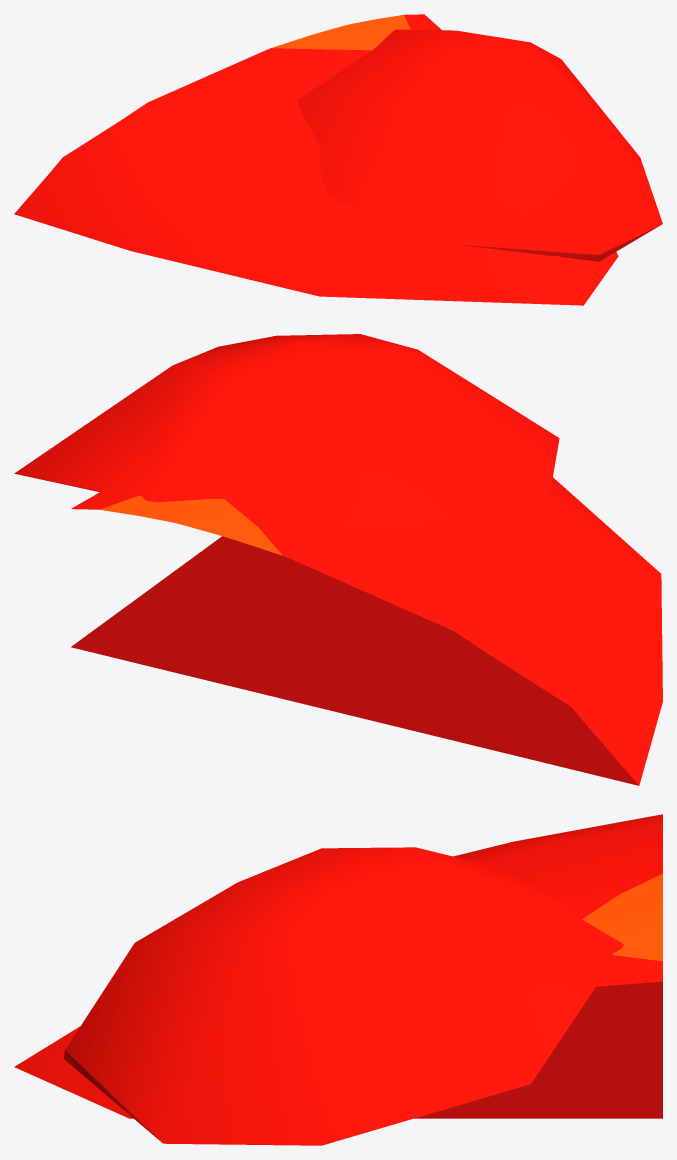
The model's file is shot_zflame_220.glb.
3 renders of one model, top to bottom at view 1: azimuth 30°, elevation 25°; view 2: azimuth 150°, elevation 25°; view 3: azimuth 270°, elevation 25°, orthographic. The views are drawn at different scales.
Visible parts, largest first — view 1: zflame_10_bed_b220, zflame_10_billow2_b220; view 2: zflame_10_bed_b220, zflame_10_billow2_b220; view 3: zflame_10_billow2_b220, zflame_10_bed_b220.
Part boxes in pixels (left/top/right/bottom): zflame_10_bed_b220: left=14, top=14, right=618, bottom=305; zflame_10_billow2_b220: left=297, top=29, right=662, bottom=261; zflame_10_bed_b220: left=71, top=477, right=662, bottom=785; zflame_10_billow2_b220: left=14, top=334, right=559, bottom=530; zflame_10_billow2_b220: left=64, top=847, right=623, bottom=1145; zflame_10_bed_b220: left=14, top=814, right=662, bottom=1118.
Size of the model in its own units: 5.84 by 1.65 by 4.75.
